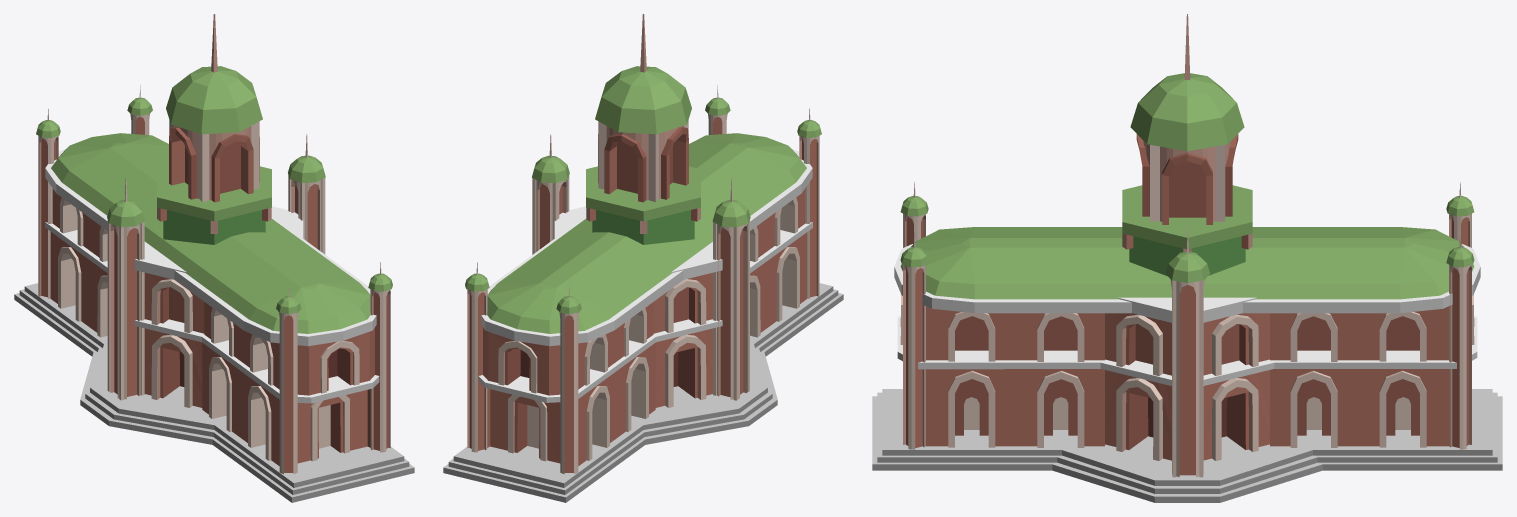
The model's file is temple_008.fbx.
3 views of the same model, side by side, from view 1: azimuth 30°, elevation 25°; view 2: azimuth 150°, elevation 25°; view 3: azimuth 270°, elevation 25° (orthographic). The views are drawn at different scales.
Visible parts, largest first — view 1: temple_008; view 2: temple_008; view 3: temple_008.
Part boxes in pixels (x1,y1,x2,y2): temple_008: (14, 14, 414, 502); temple_008: (443, 14, 843, 502); temple_008: (872, 14, 1502, 502).
Size of the model in its own units: 1371 by 2032 by 2749.
